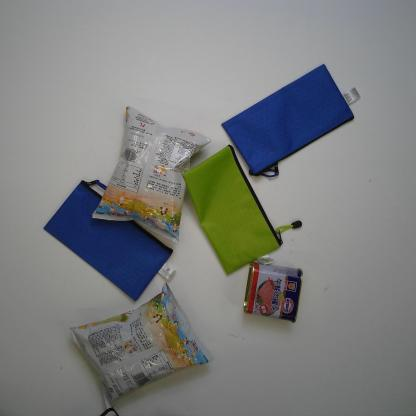Canned Food: (242, 258, 302, 324)
Puffed Food: (67, 281, 218, 412), (89, 105, 210, 251)
Stationery: (41, 176, 178, 302), (179, 145, 303, 280), (221, 61, 361, 178)
